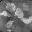people: (14, 7, 24, 18), (6, 2, 16, 12), (21, 16, 32, 25), (0, 10, 11, 18), (6, 20, 14, 29)
